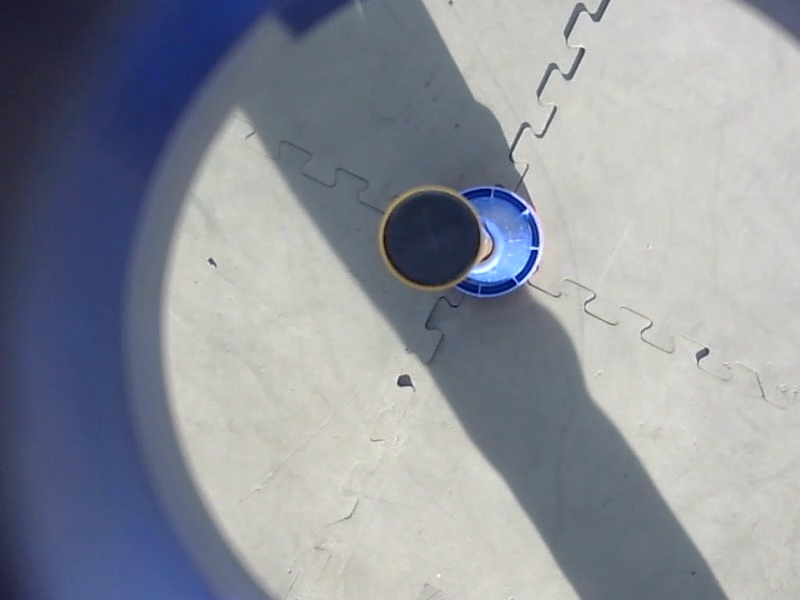tip: (370, 181, 490, 300)
